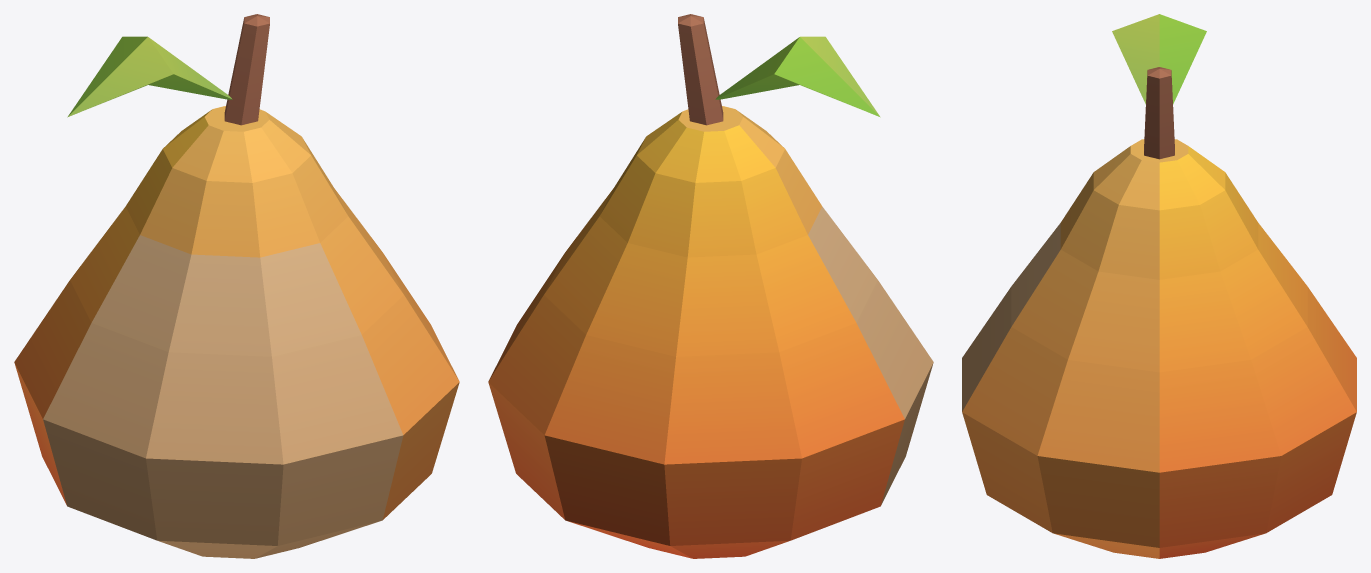
The model's file is source.glb.
3 views of the same model, side by side, from view 1: azimuth 30°, elevation 25°; view 2: azimuth 150°, elevation 25°; view 3: azimuth 270°, elevation 25° (orthographic). The views are drawn at different scales.
Parts seen in each view (by area): view 1: model; view 2: model; view 3: model.
Part boxes in pixels (bbox=[...]): model: bbox=[14, 14, 459, 558]; model: bbox=[488, 14, 933, 558]; model: bbox=[962, 14, 1356, 558].
Size of the model in its own units: 0.48 by 0.602 by 0.4565.
1 material, 1 textured.
